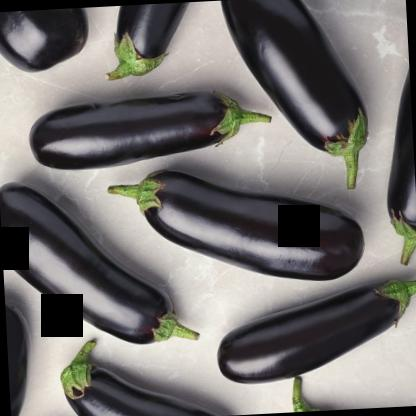eggplant: (0, 174, 201, 350), (106, 160, 368, 290), (217, 0, 375, 191), (214, 270, 415, 382), (27, 87, 277, 170), (54, 331, 239, 415), (107, 0, 195, 74)
